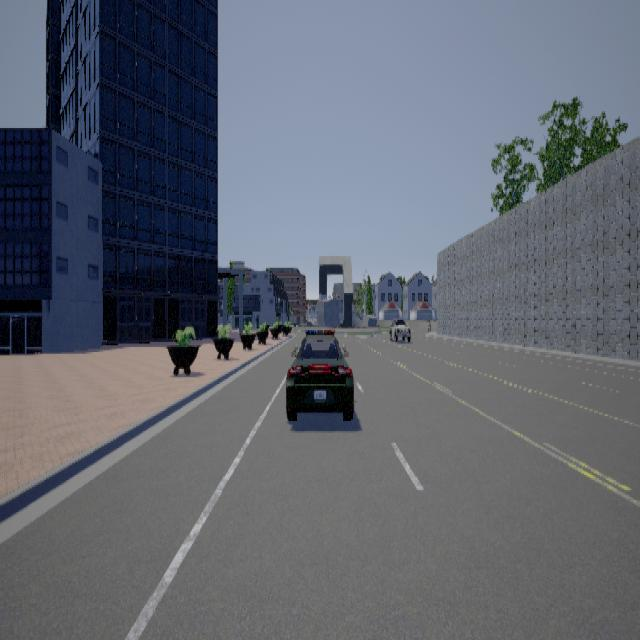vehicle: (287, 328, 355, 419), (388, 316, 416, 344)
